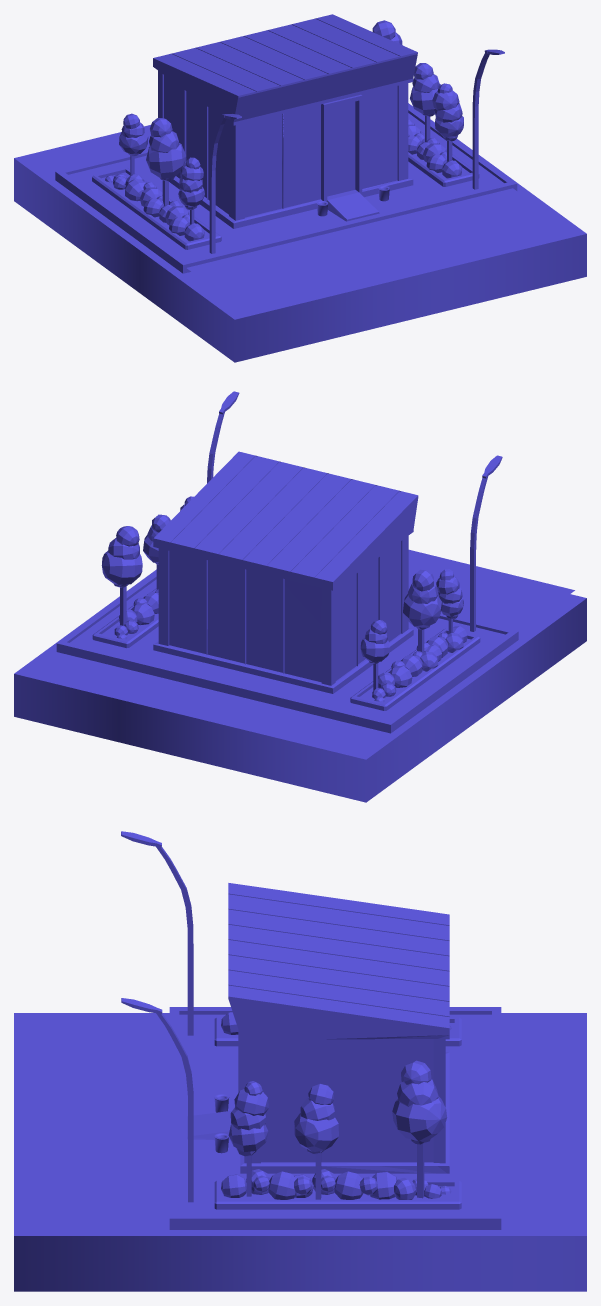
The model's file is shop_blueprint.fbx.
3 views of the same model, one above another, from view 1: azimuth 30°, elevation 25°; view 2: azimuth 150°, elevation 25°; view 3: azimuth 270°, elevation 25° (orthographic). The views are drawn at different scales.
Parts seen in each view (by area): view 1: Shop_blueprint; view 2: Shop_blueprint; view 3: Shop_blueprint.
Part boxes in pixels (<box>): Shop_blueprint: <box>14,14,586,362</box>; Shop_blueprint: <box>14,391,586,802</box>; Shop_blueprint: <box>14,831,586,1291</box>.
Size of the model in its own units: 170 by 94.28 by 185.
